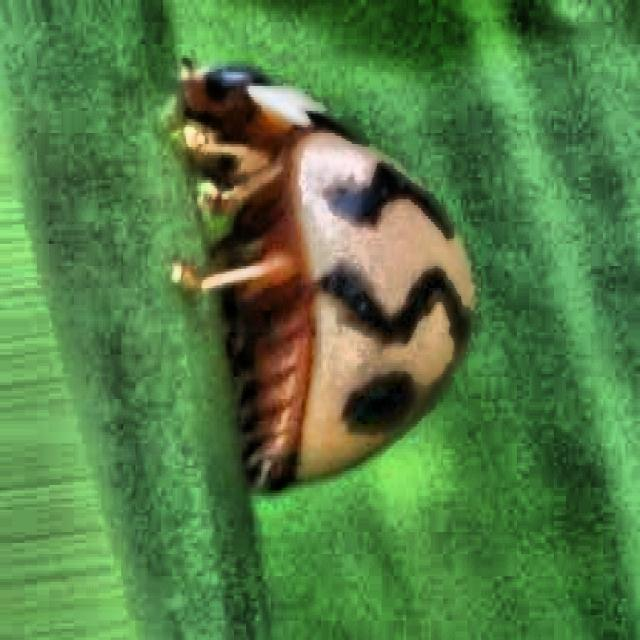Asian-Lady-beetle: (133, 37, 496, 574)
